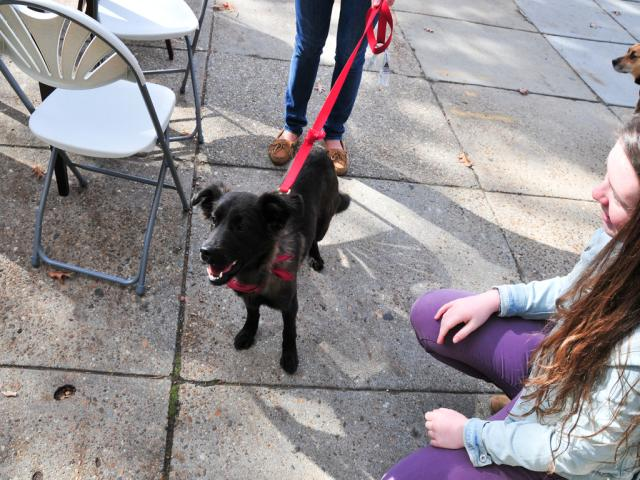Dog: (187, 149, 350, 369), (610, 41, 640, 114)
